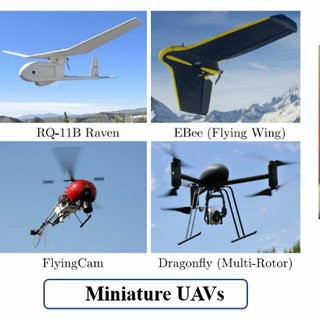maybay_khongnguoilai: (163, 17, 295, 117), (151, 139, 283, 238), (6, 18, 140, 84), (18, 150, 104, 240)
